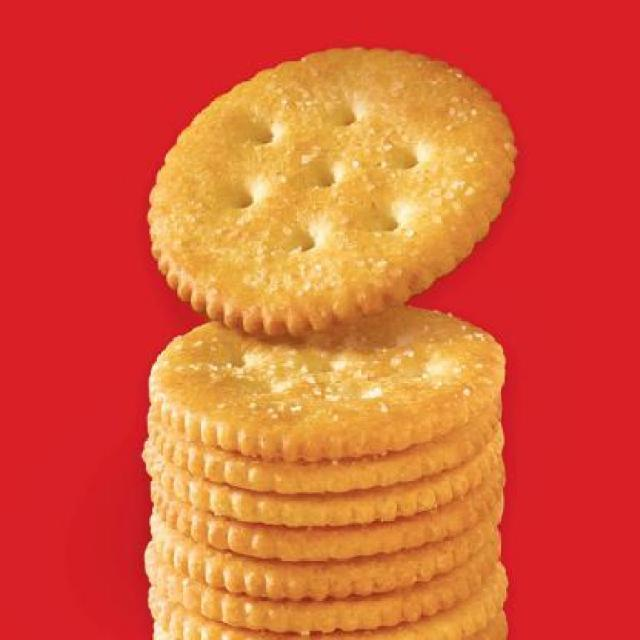Ritz cracker packaged: (139, 41, 519, 640)
